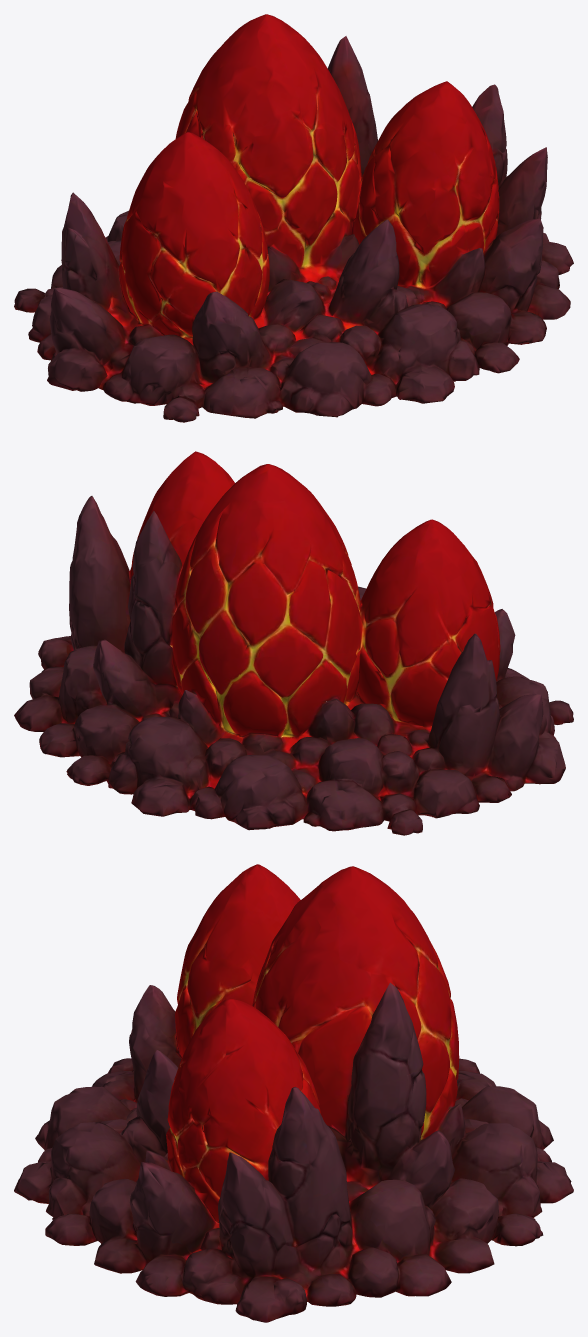
The model's file is dragon_eggs.glb.
The picture shows the model from 3 angles, top to bottom: view 1: azimuth 30°, elevation 25°; view 2: azimuth 150°, elevation 25°; view 3: azimuth 270°, elevation 25°; orthographic projection. The views are drawn at different scales.
Parts seen in each view (by area): view 1: tripo_node_766eadeb-5625-4319-af84-5f8e0fb9fbac; view 2: tripo_node_766eadeb-5625-4319-af84-5f8e0fb9fbac; view 3: tripo_node_766eadeb-5625-4319-af84-5f8e0fb9fbac.
Boxes of the visible parts, x1,y1,x2,y2 form: tripo_node_766eadeb-5625-4319-af84-5f8e0fb9fbac: (14,14,573,422); tripo_node_766eadeb-5625-4319-af84-5f8e0fb9fbac: (14,451,573,835); tripo_node_766eadeb-5625-4319-af84-5f8e0fb9fbac: (14,864,573,1322).
Bounding box in the file's own units: 0.9455 × 0.4884 × 0.7927.
1 material, 1 textured.
